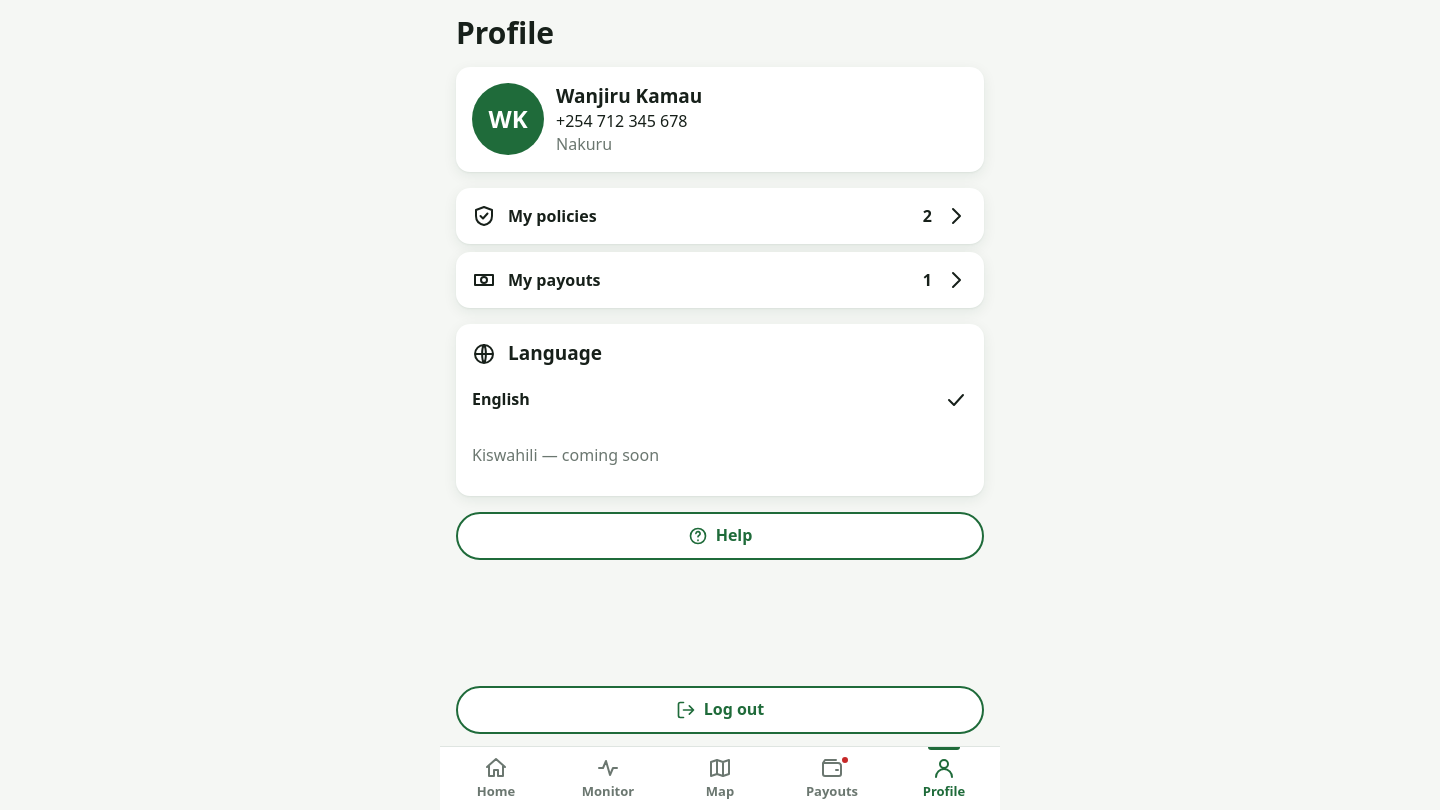
Test case: Profile › help opens every answer in a sheet and Escape closes it
Click the button "Help" at (720, 536), box [456,512,984,560]
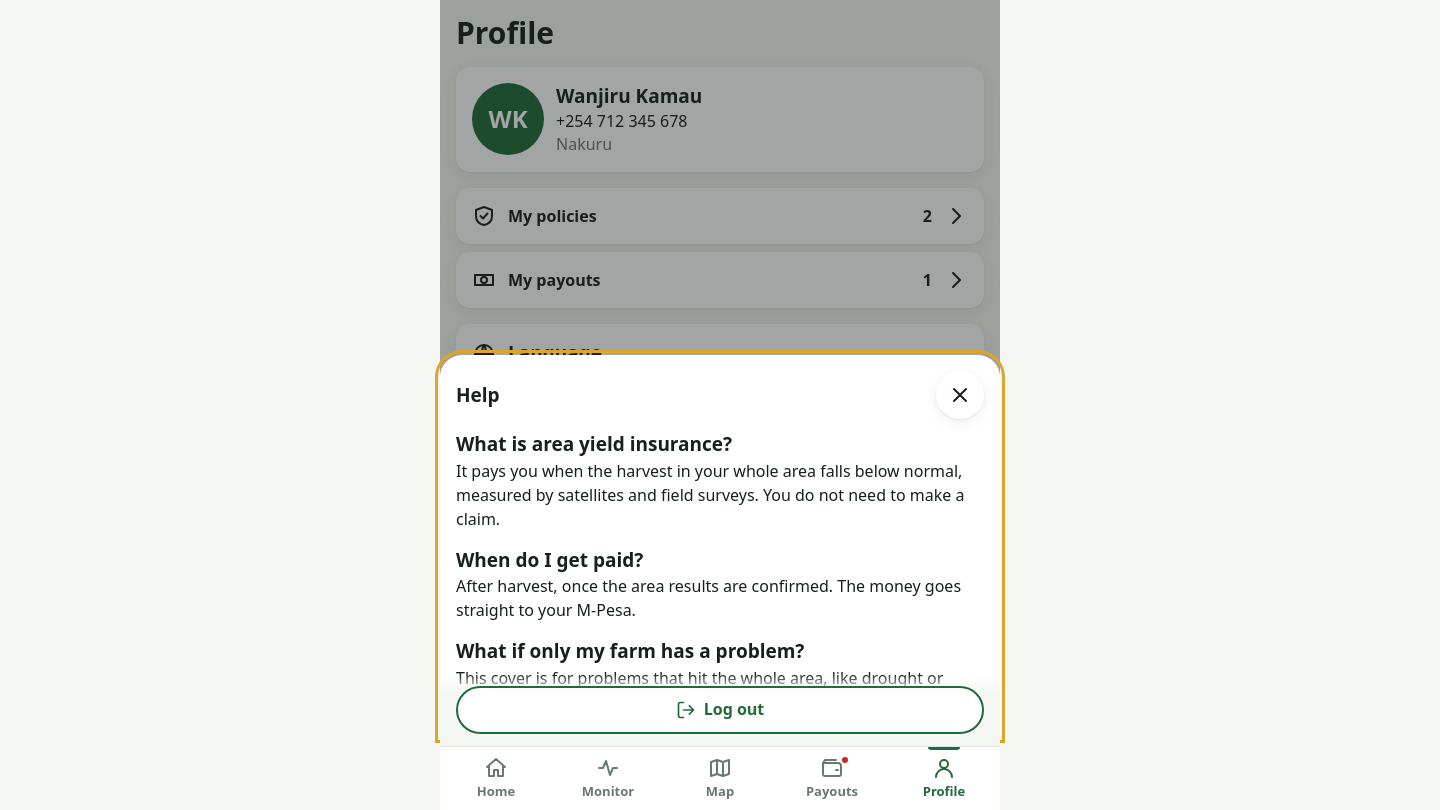
expect the text "What is area yield insurance?" is shown: met, box [456,431,732,457]
expect the text "When do I get paid?" is shown: met, box [456,547,643,573]
expect the text "What if only my farm has a problem?" is shown: met, box [456,638,804,664]
Press Escape
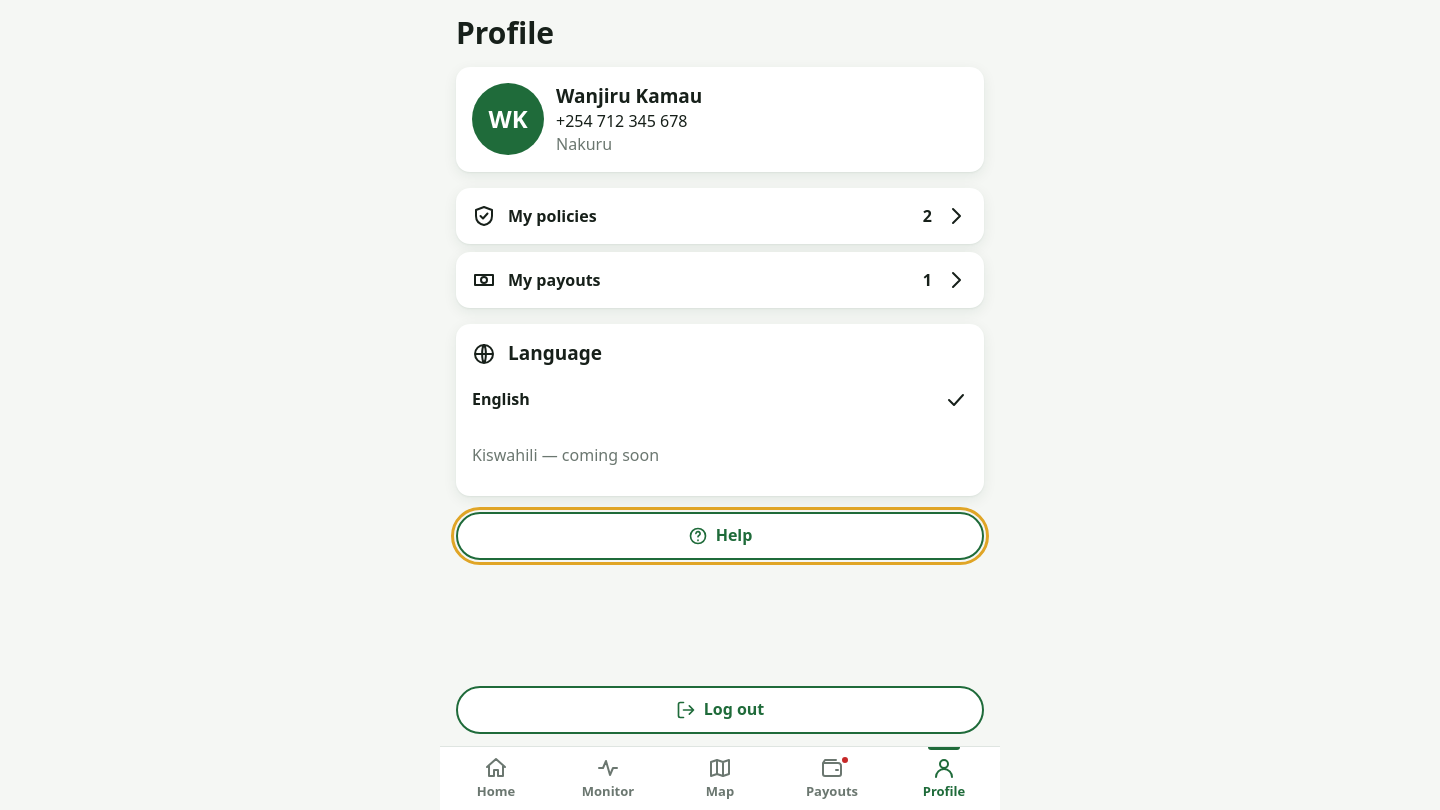
expect the dialog is gone: met
